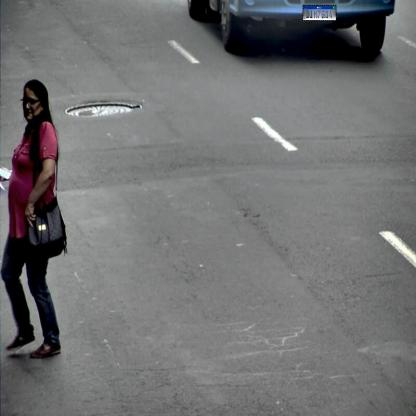PlacaM: (302, 5, 336, 21)
